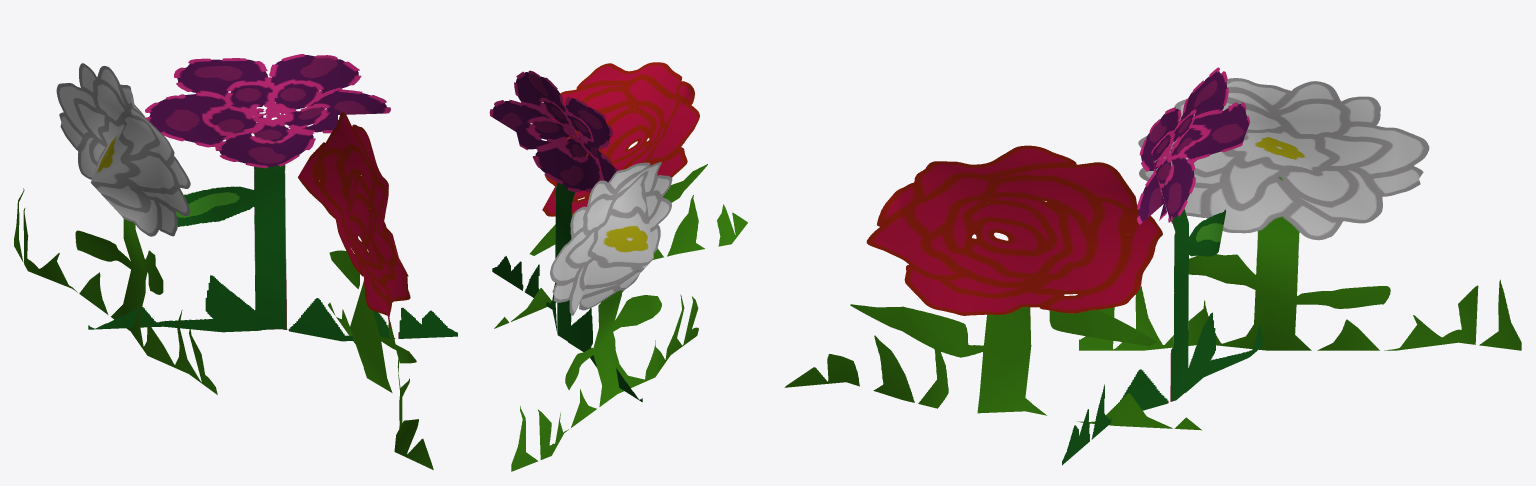
File: Flower_Bed_4.fbx
3 views of the same model, side by side, from view 1: azimuth 30°, elevation 25°; view 2: azimuth 150°, elevation 25°; view 3: azimuth 270°, elevation 25° (orthographic). The views are drawn at different scales.
Parts seen in each view (by area): view 1: Flower7, FlowerFive3, FlowerFour2; view 2: FlowerFive3, FlowerFour2, Flower7; view 3: FlowerFour2, FlowerFive3, Flower7.
Boxes of the visible parts, x1,y1,x2,y2 form: Flower7: (88, 54, 457, 341); FlowerFive3: (14, 63, 217, 394); FlowerFour2: (298, 112, 433, 469); FlowerFive3: (511, 162, 698, 471); FlowerFour2: (494, 62, 747, 328); Flower7: (489, 70, 642, 402); FlowerFour2: (784, 145, 1201, 430); FlowerFive3: (1079, 78, 1521, 350); Flower7: (1062, 67, 1263, 465).
Size of the model in its own units: 0.7709 by 0.8618 by 1.68.
3 materials, 3 textured.
